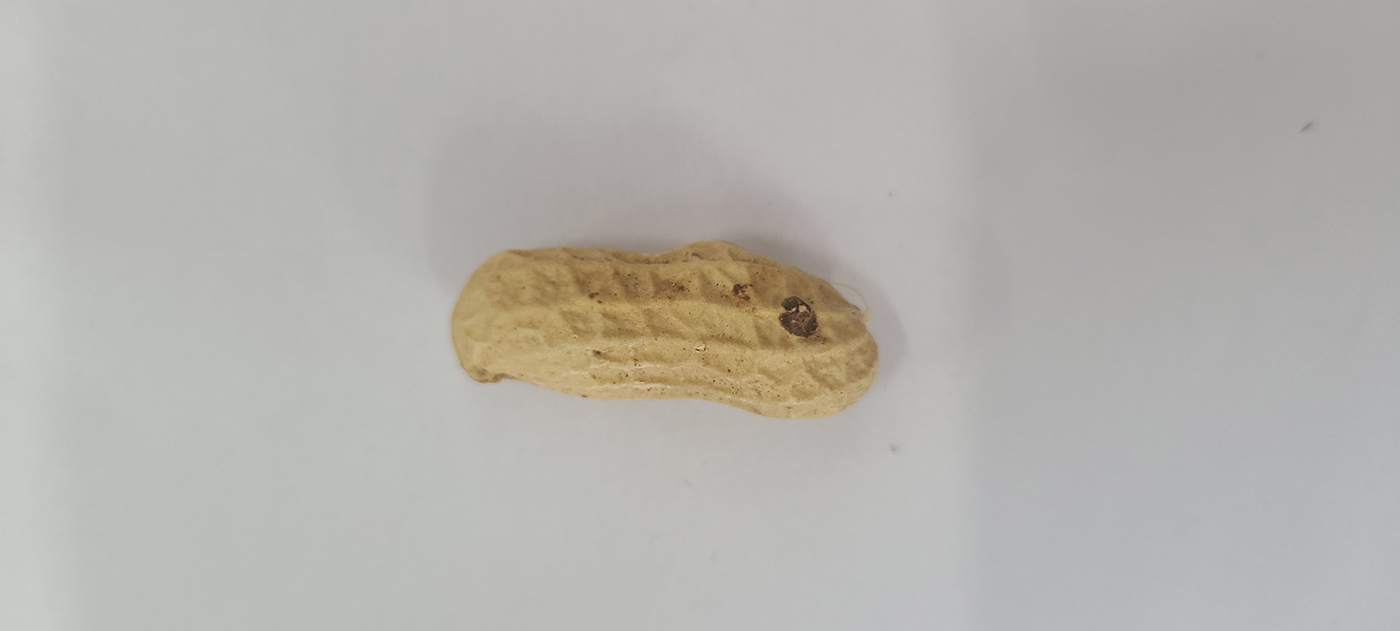h: (449, 240, 884, 424)
